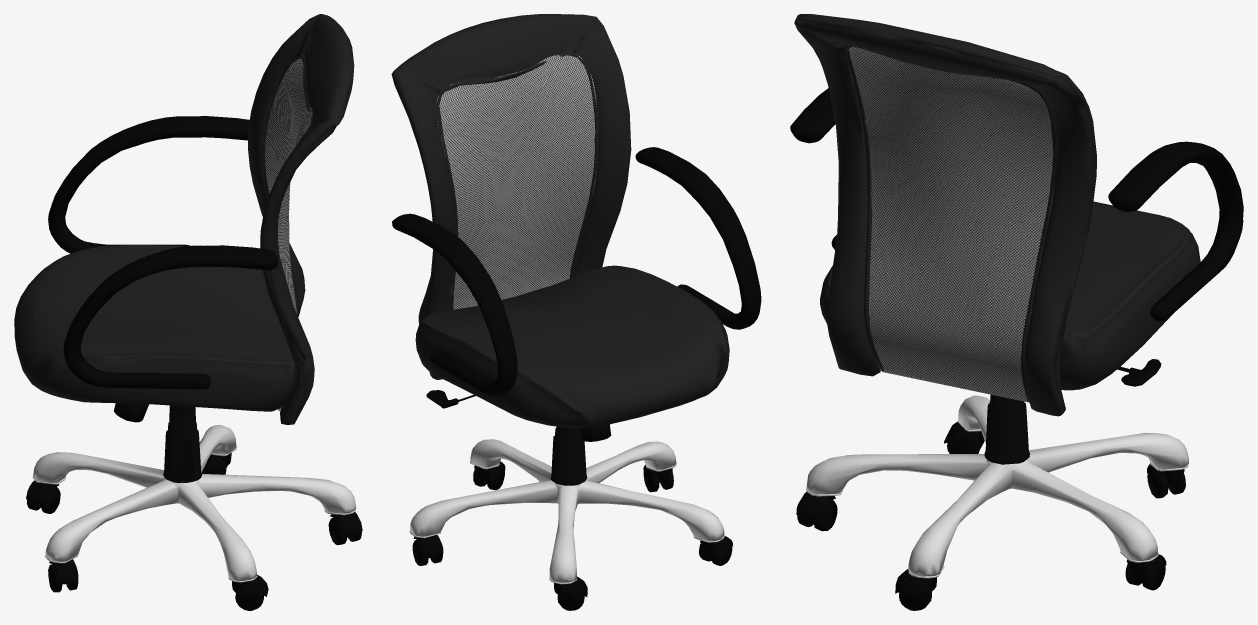
Rendered from office-chair.glb.
3 views of the same model, side by side, from view 1: azimuth 30°, elevation 25°; view 2: azimuth 150°, elevation 25°; view 3: azimuth 270°, elevation 25° (orthographic). The views are drawn at different scales.
Parts seen in each view (by area): view 1: Box01_Lether_0; view 2: Box01_Lether_0; view 3: Box01_Lether_0.
Boxes of the visible parts, x1=… form: Box01_Lether_0: x1=14, y1=14, x2=362, y2=610; Box01_Lether_0: x1=391, y1=14, x2=761, y2=610; Box01_Lether_0: x1=790, y1=14, x2=1243, y2=610.
Bounding box in the file's own units: 1.02 × 1.47 × 1.06.
4 materials, 1 textured.
